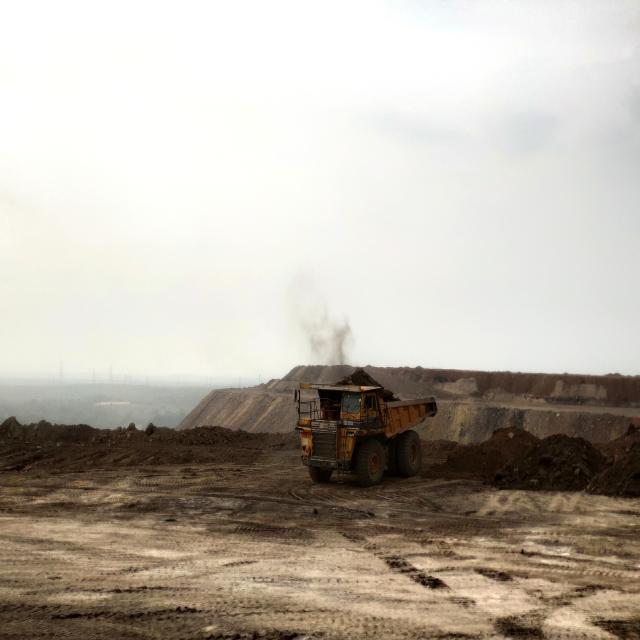dump_truck: (296, 382, 438, 487)
